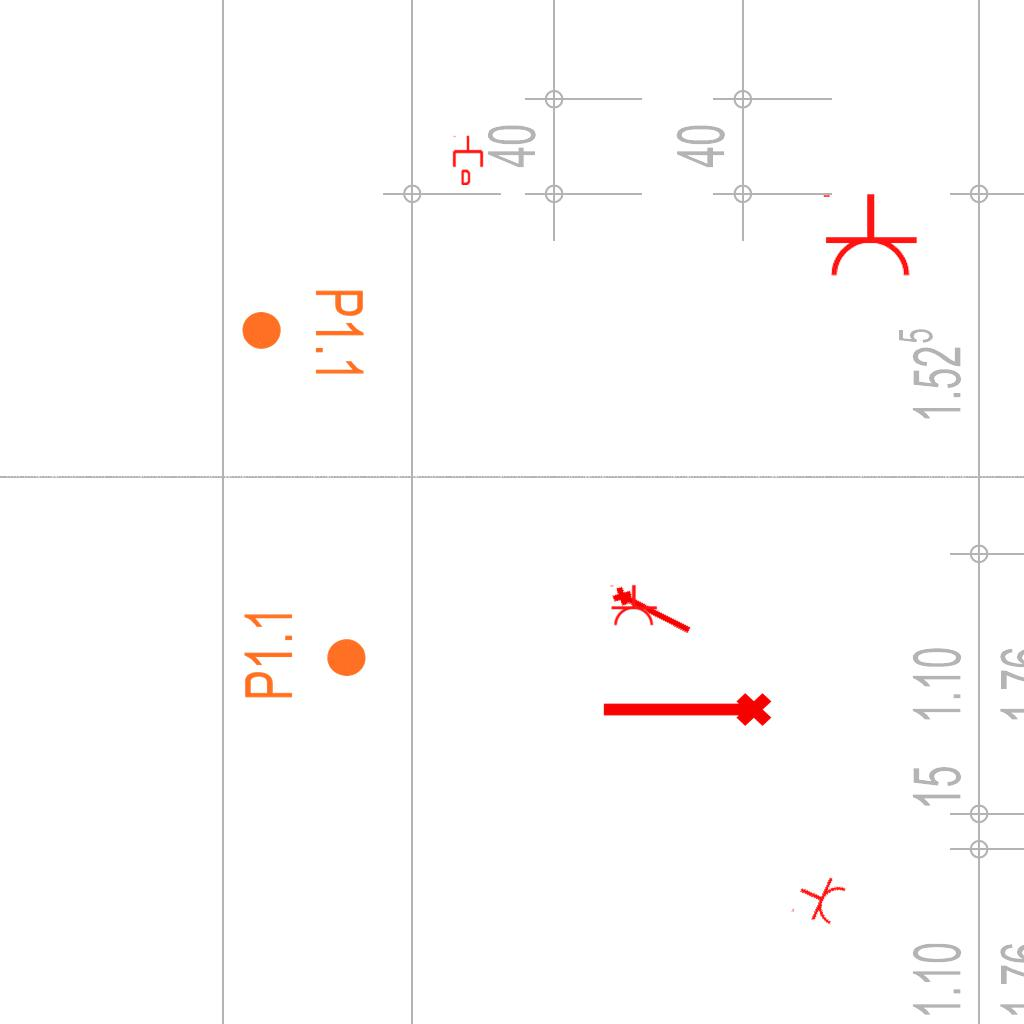ASR_Ansaugoeffnung: (598, 689, 774, 735), (608, 580, 698, 641)
Datenanschluss_einfach: (451, 135, 485, 185)
Downlight_LED_Einbauleuchten_Flur: (239, 287, 367, 380), (241, 608, 369, 701)
Schukosteckdose_einfach: (819, 192, 919, 279), (789, 867, 850, 931), (608, 584, 658, 627)
